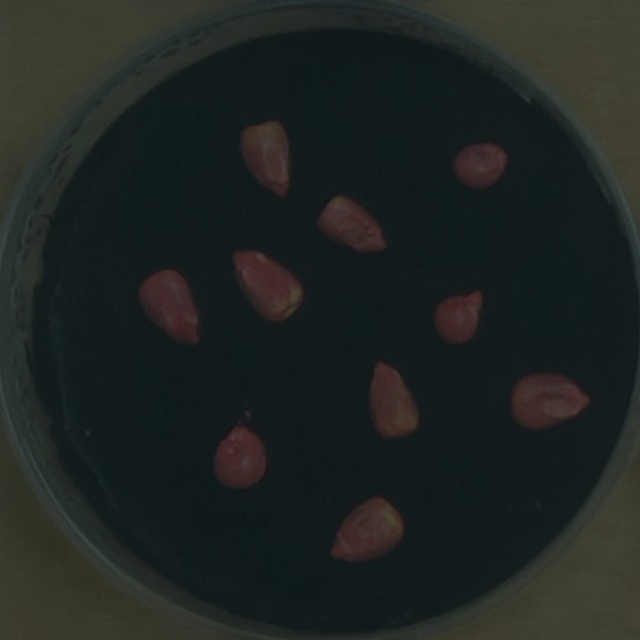Zea mays: (222, 240, 311, 331), (320, 487, 413, 574), (501, 363, 600, 440), (129, 261, 209, 353), (230, 112, 299, 207), (308, 187, 395, 262), (358, 354, 426, 449), (204, 416, 275, 497), (423, 281, 492, 355), (444, 136, 515, 200)
